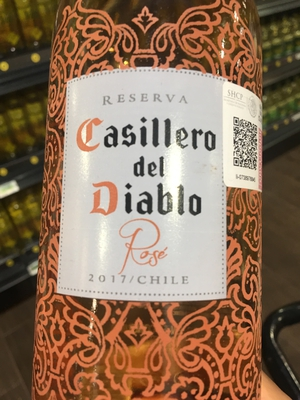casillero del diablo rose: (36, 3, 278, 400)
